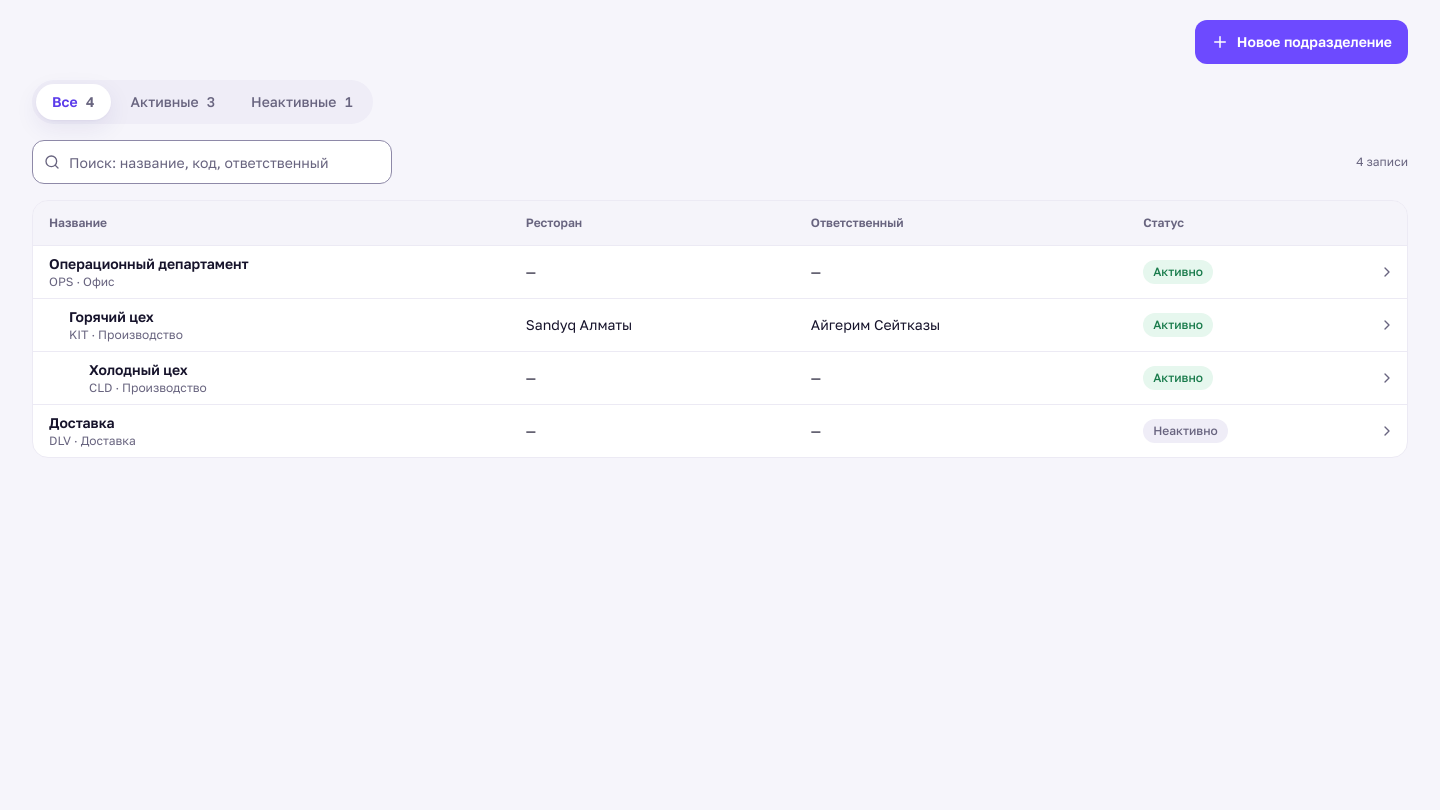
Test: «Подразделения» (W2-ADM-08) › without data-exchange or employees rights: no iiko import, no employee query
Click the text "Операционный департамент".
click(149, 263)  # box [49,254,249,272]
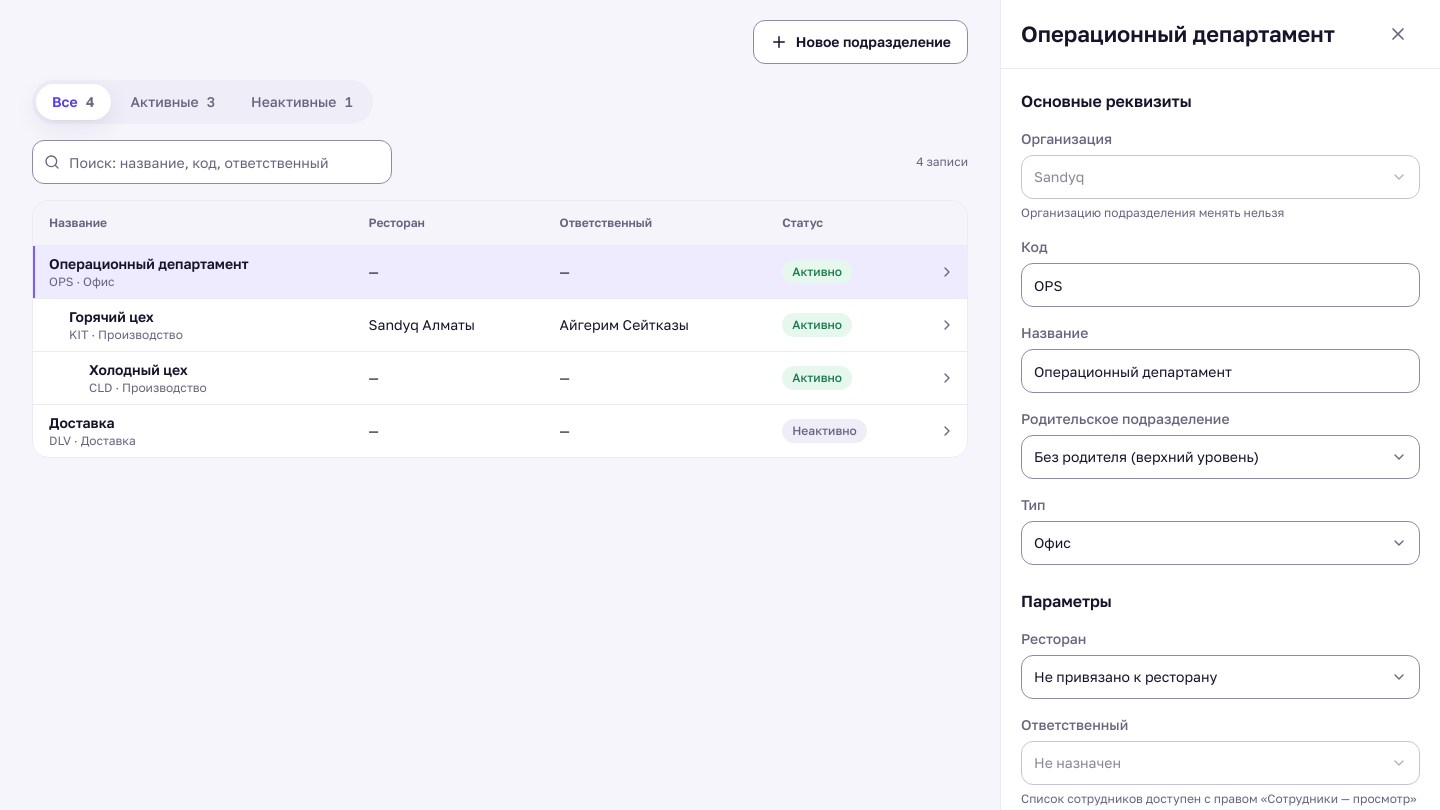
Expected: the text "Список сотрудников доступен с правом «Сотрудники — просмотр»" is shown, [1021,791,1420,807]
